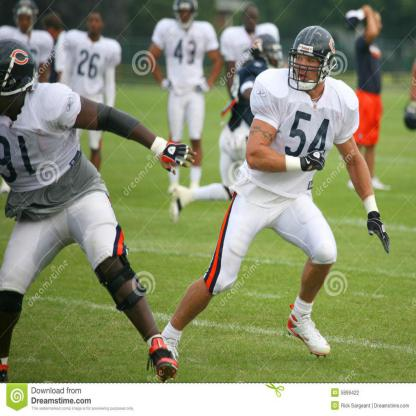face: (296, 50, 324, 88), (179, 7, 196, 26), (89, 16, 103, 38), (18, 14, 34, 33), (246, 10, 259, 31), (372, 15, 383, 38)
